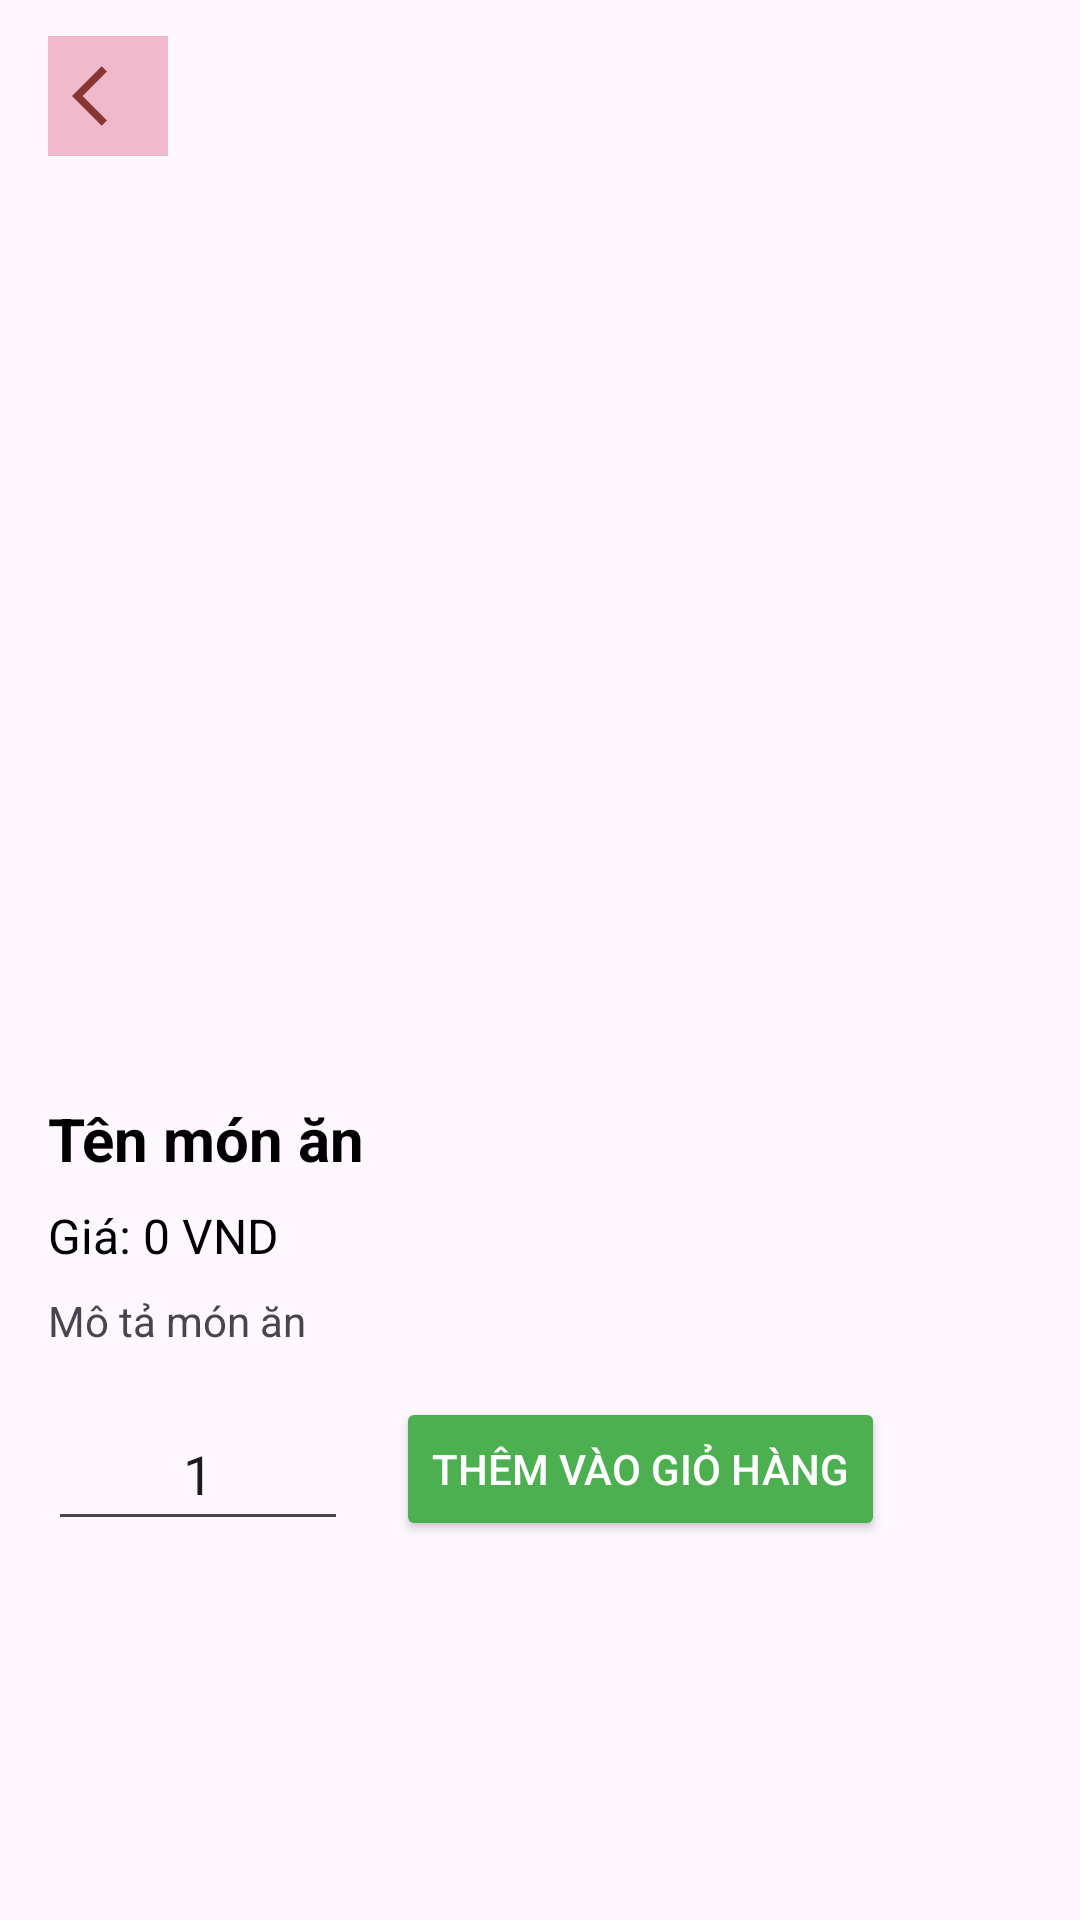

Icon click points for this 1080*1920 phone screenshot, format (x=x, y=y):
Back Button: (x=108, y=96)
